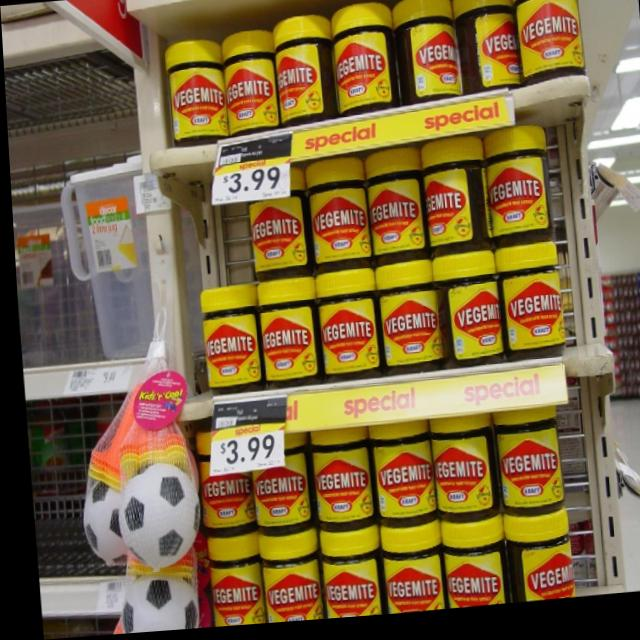q64: (479, 124, 558, 242), (492, 243, 568, 360), (187, 275, 258, 399), (311, 266, 379, 387), (369, 260, 439, 376), (420, 139, 490, 254), (250, 274, 318, 387), (431, 248, 496, 366), (485, 415, 555, 524), (269, 19, 332, 137), (329, 5, 397, 114), (302, 163, 367, 277), (301, 421, 365, 532), (393, 0, 459, 107), (300, 533, 377, 624), (160, 32, 224, 140), (496, 515, 566, 610), (509, 0, 587, 85), (363, 155, 423, 265), (423, 427, 486, 527), (254, 527, 317, 627), (459, 0, 520, 101), (364, 428, 427, 524), (220, 31, 278, 132), (438, 522, 501, 614), (197, 535, 253, 630), (376, 532, 437, 619), (248, 192, 307, 279)
